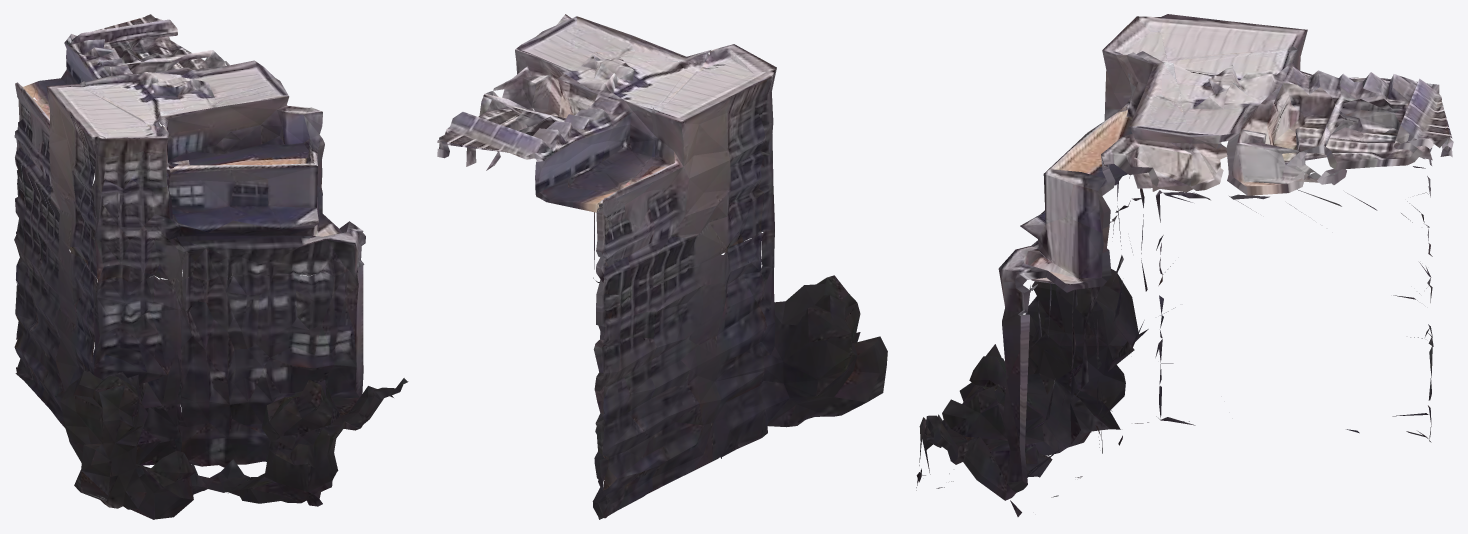
3 views of the same model, side by side, from view 1: azimuth 30°, elevation 25°; view 2: azimuth 150°, elevation 25°; view 3: azimuth 270°, elevation 25° (orthographic). The views are drawn at different scales.
Visible parts, largest first — view 1: Mesh_0; view 2: Mesh_0; view 3: Mesh_0.
Boxes of the visible parts, bbox=[...] form: Mesh_0: bbox=[14, 14, 408, 519]; Mesh_0: bbox=[437, 14, 887, 519]; Mesh_0: bbox=[916, 14, 1453, 516].
Bounding box in the file's own units: 28.95 × 32.92 × 39.27.
Materials: 1 (1 with a texture image).
